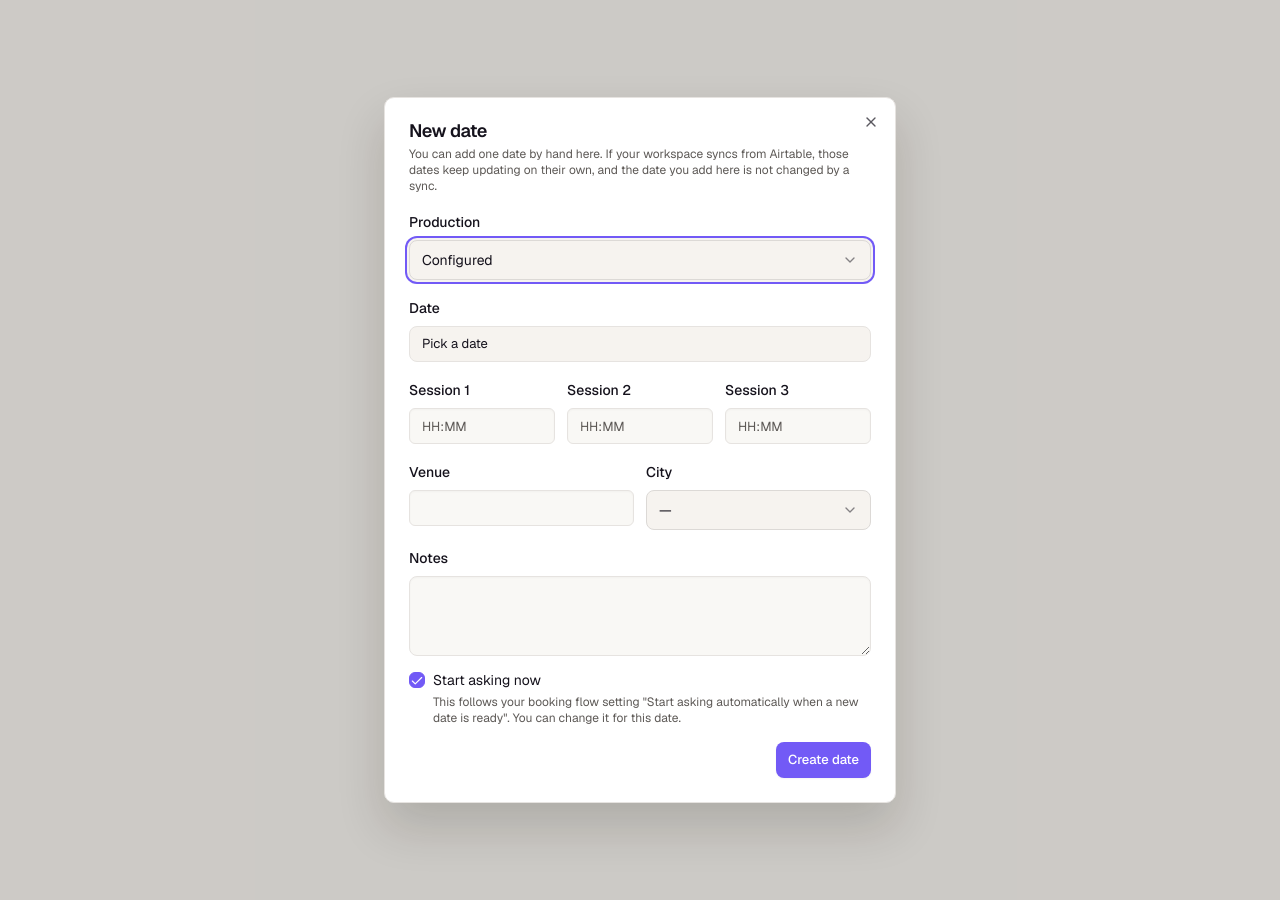
Test case: ShowDateFormDialog › does not re-seed the create-mode offer choice from the flow once the user toggles it
The width and height of the screenshot is (1280, 900).
Later steps or results of the test are not shown.
Click the checkbox named "start asking now" at {"x": 417, "y": 680}, box top-left (409, 672), bottom-right (425, 688)
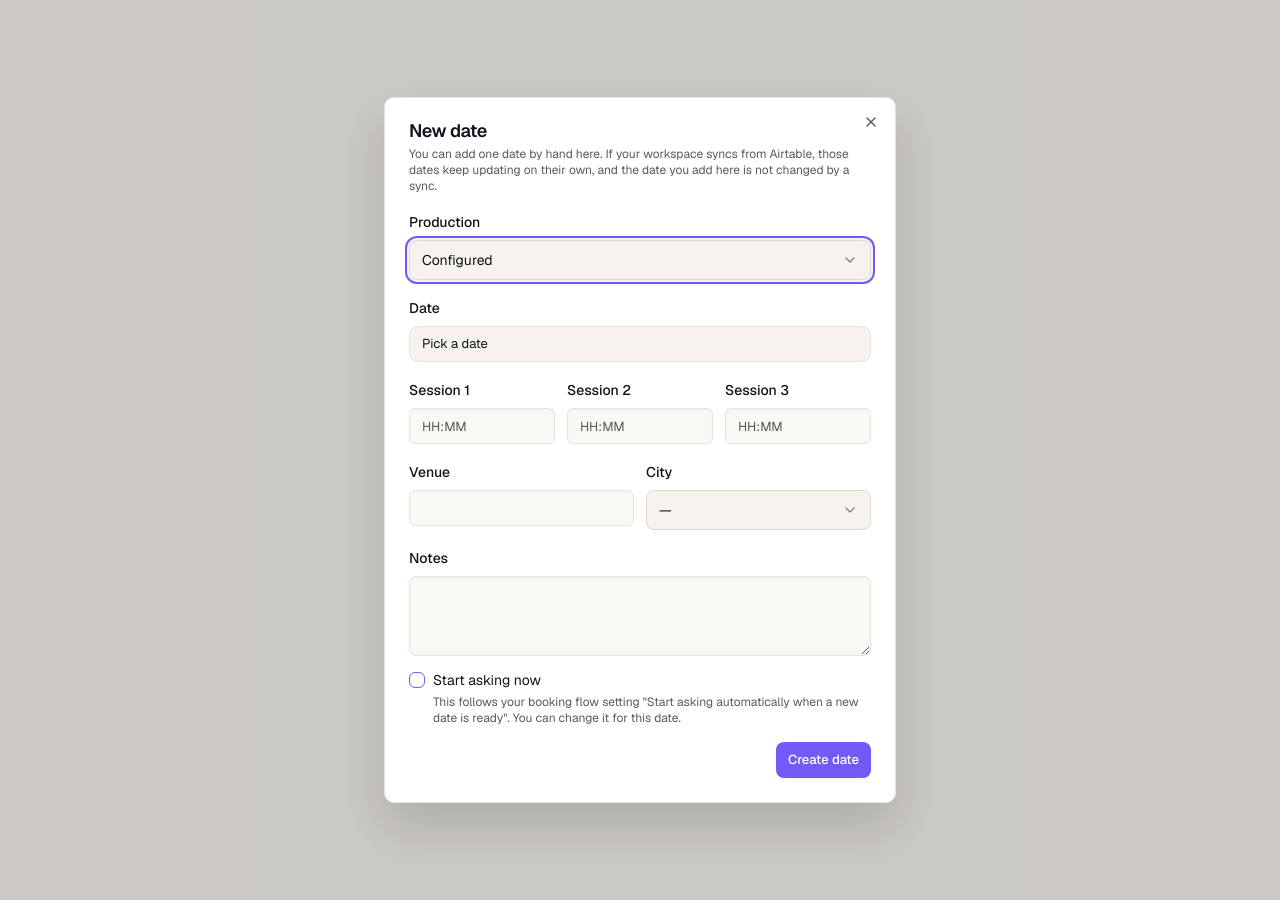
Expected: the checkbox named "start asking now" is not checked, top-left (409, 672), bottom-right (425, 688)
